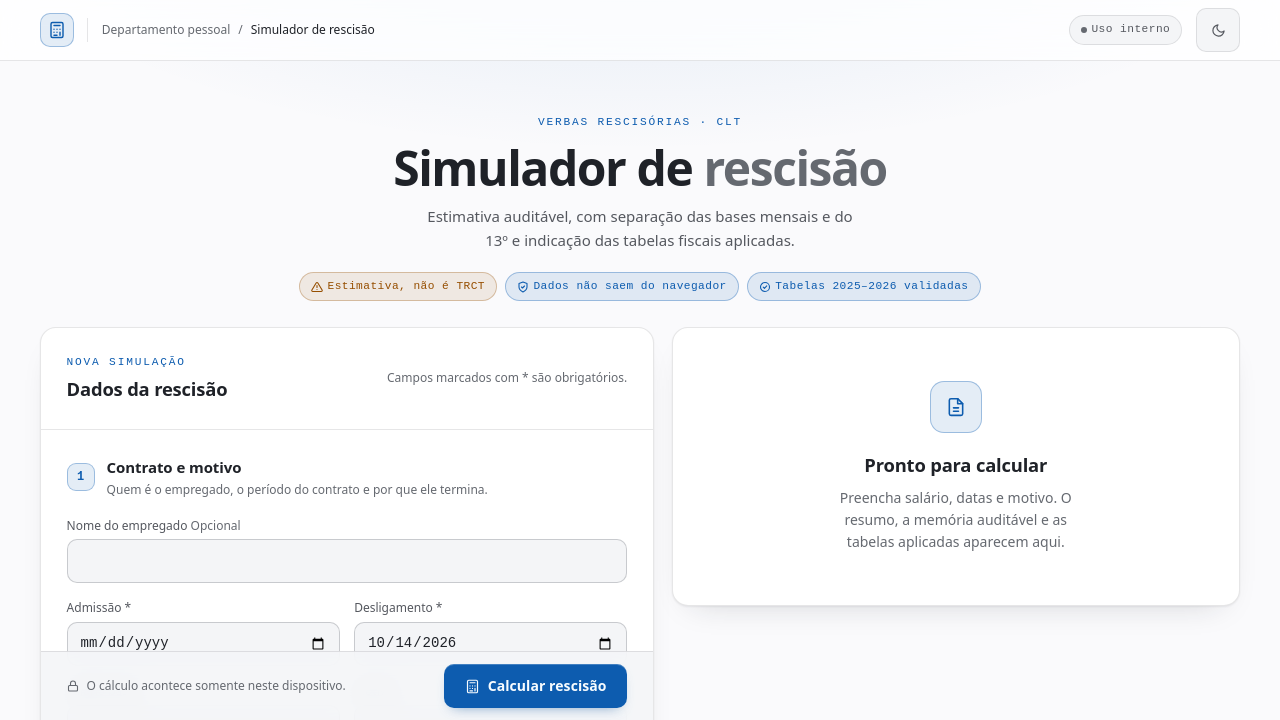
Scenario: SimuladorRescisao › calcula e apresenta resultado auditável pela interação do usuário
Type "2023-01-01" into the date field labelled "Admissão *".
click(203, 644); type("2023-01-01")  # box [67, 622, 340, 666]
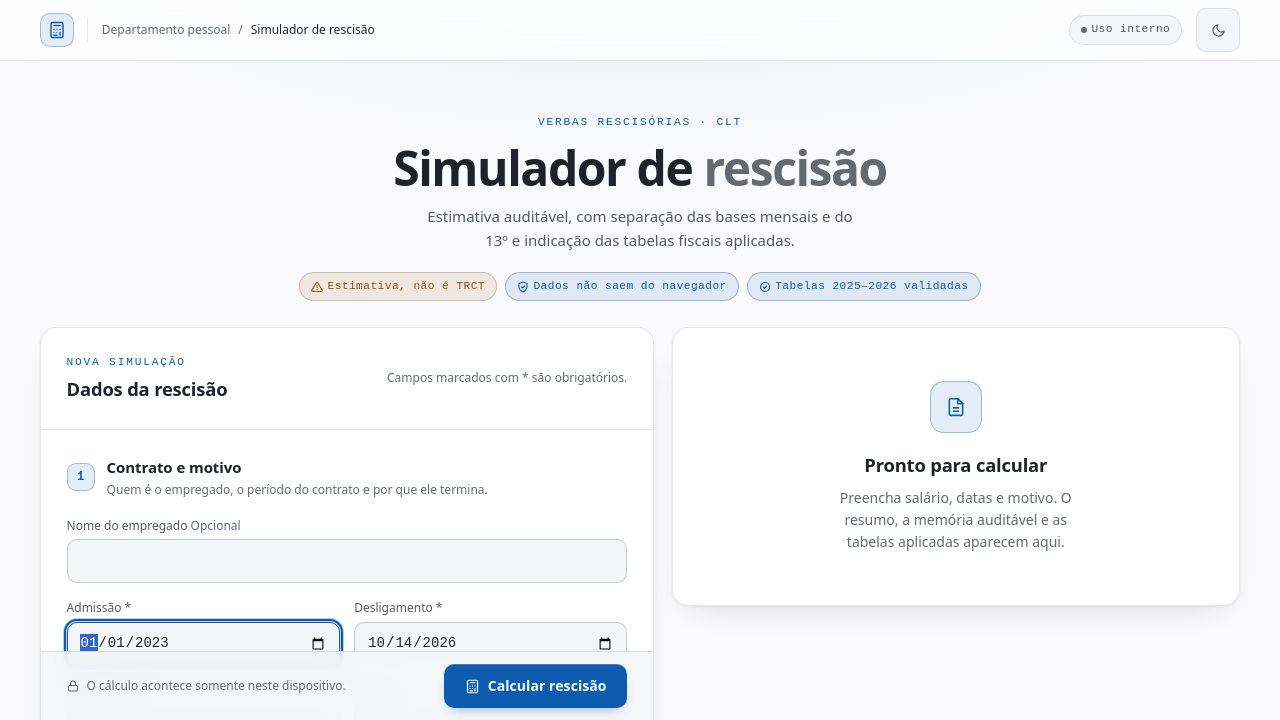
Type "2026-09-10" into the date field labelled "Desligamento *".
click(491, 644); type("2026-09-10")  # box [354, 622, 627, 666]
(page scrolled)
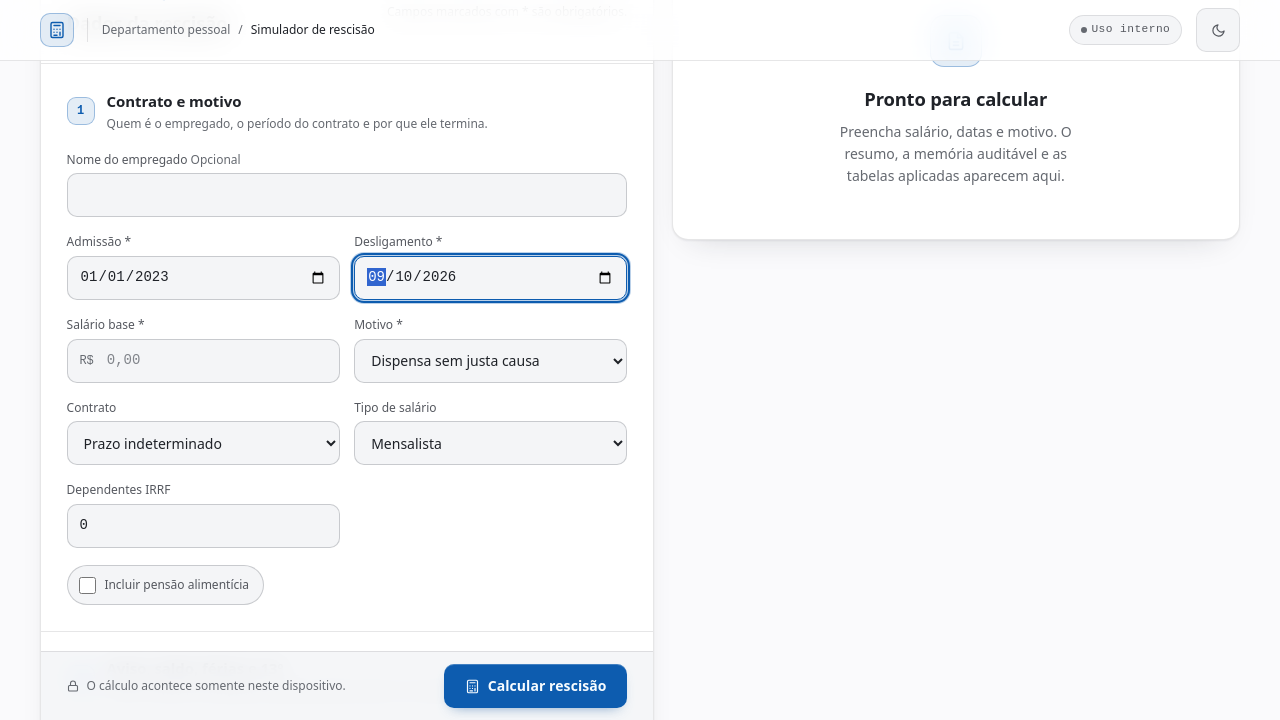
Type "4500" into the number field labelled "Salário base *".
click(203, 360); type("4500")  # box [67, 338, 340, 382]
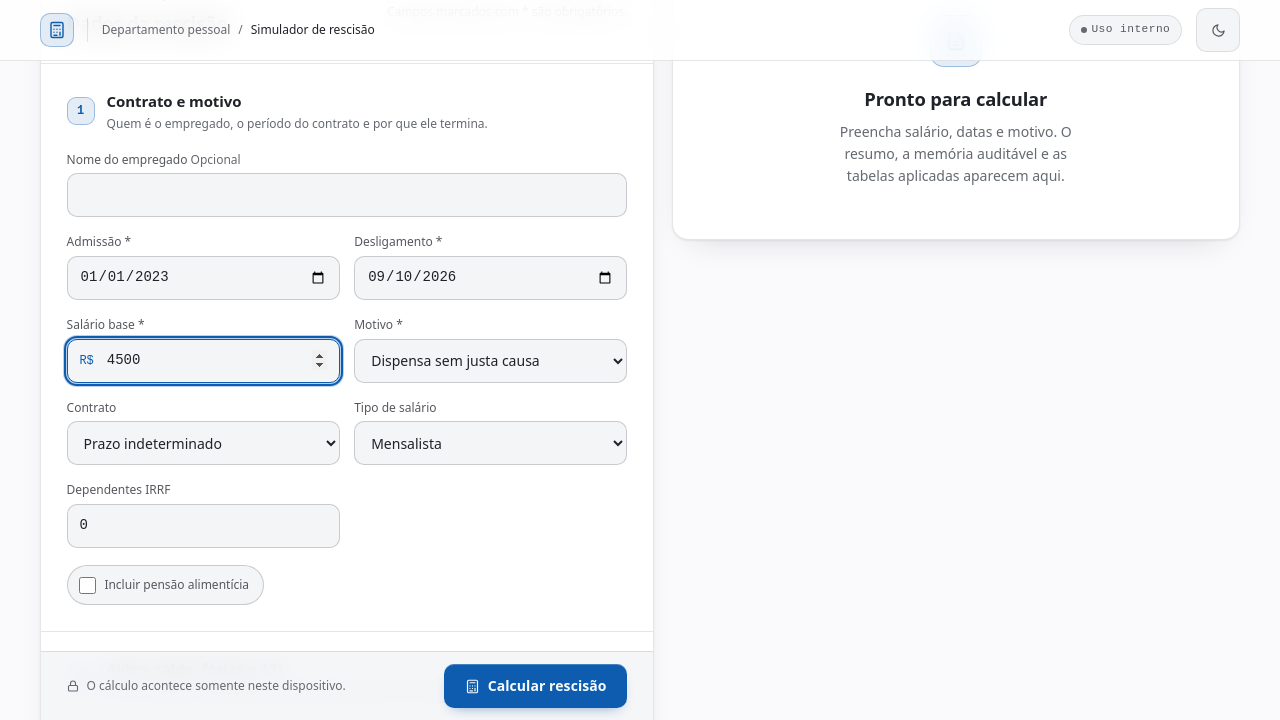
Click the button "Calcular rescisão".
click(536, 686)  # box [444, 664, 627, 708]
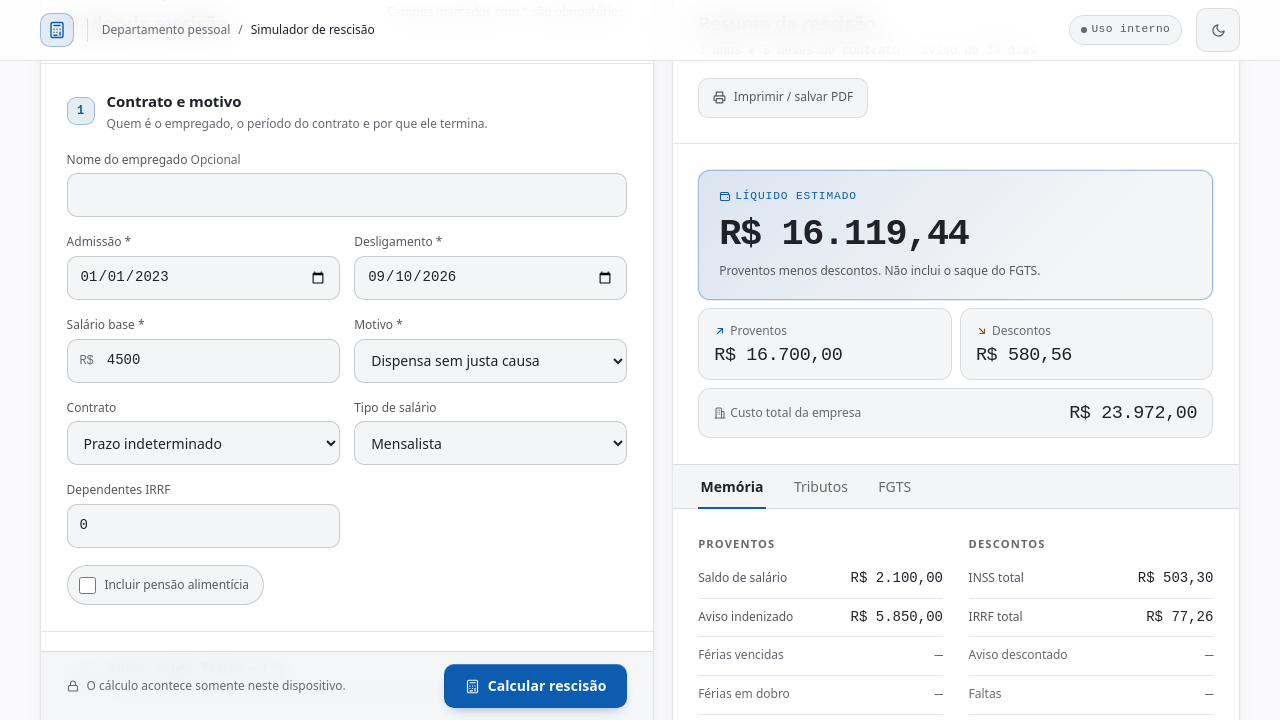
Result: the button "Imprimir / salvar PDF" is shown at [698, 78, 868, 118]
